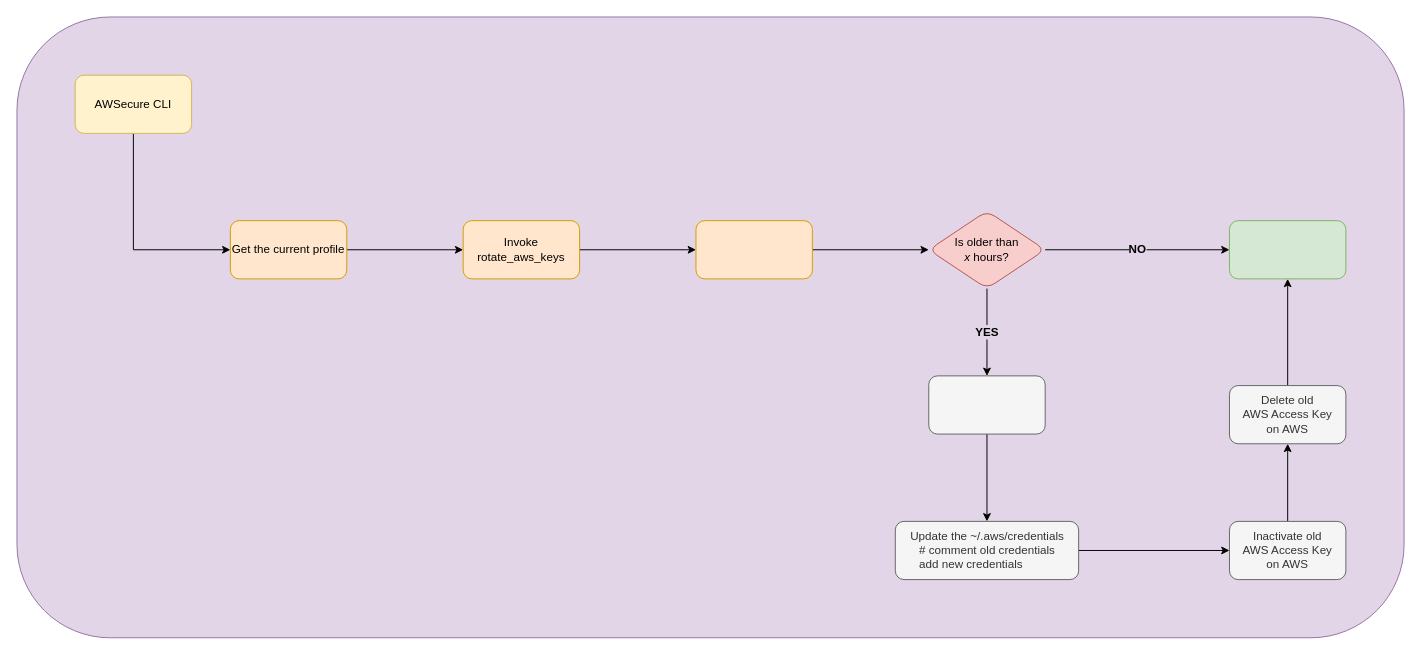
Some shapes in this 1421 by 655 pixel diagram are drawn without their labels. The centre of each missing label's shape, as x and y in pixels:
"Create a new AWS Access Keys" goes at point (986, 404).
"Get current AWS Access Keys" goes at point (753, 249).
"run command" goes at point (1287, 249).
